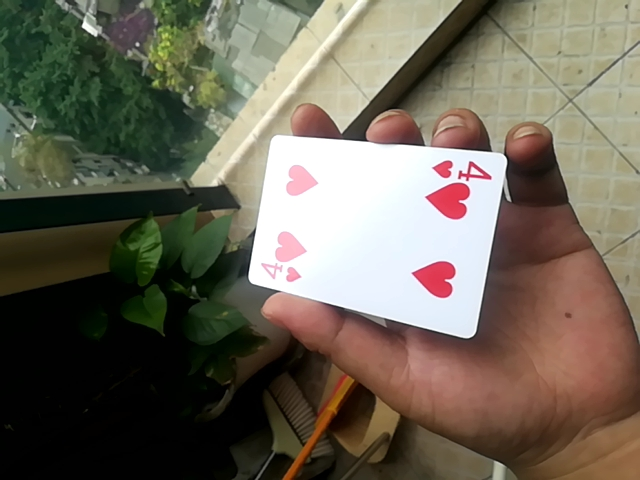hx 4: (246, 131, 510, 339)
